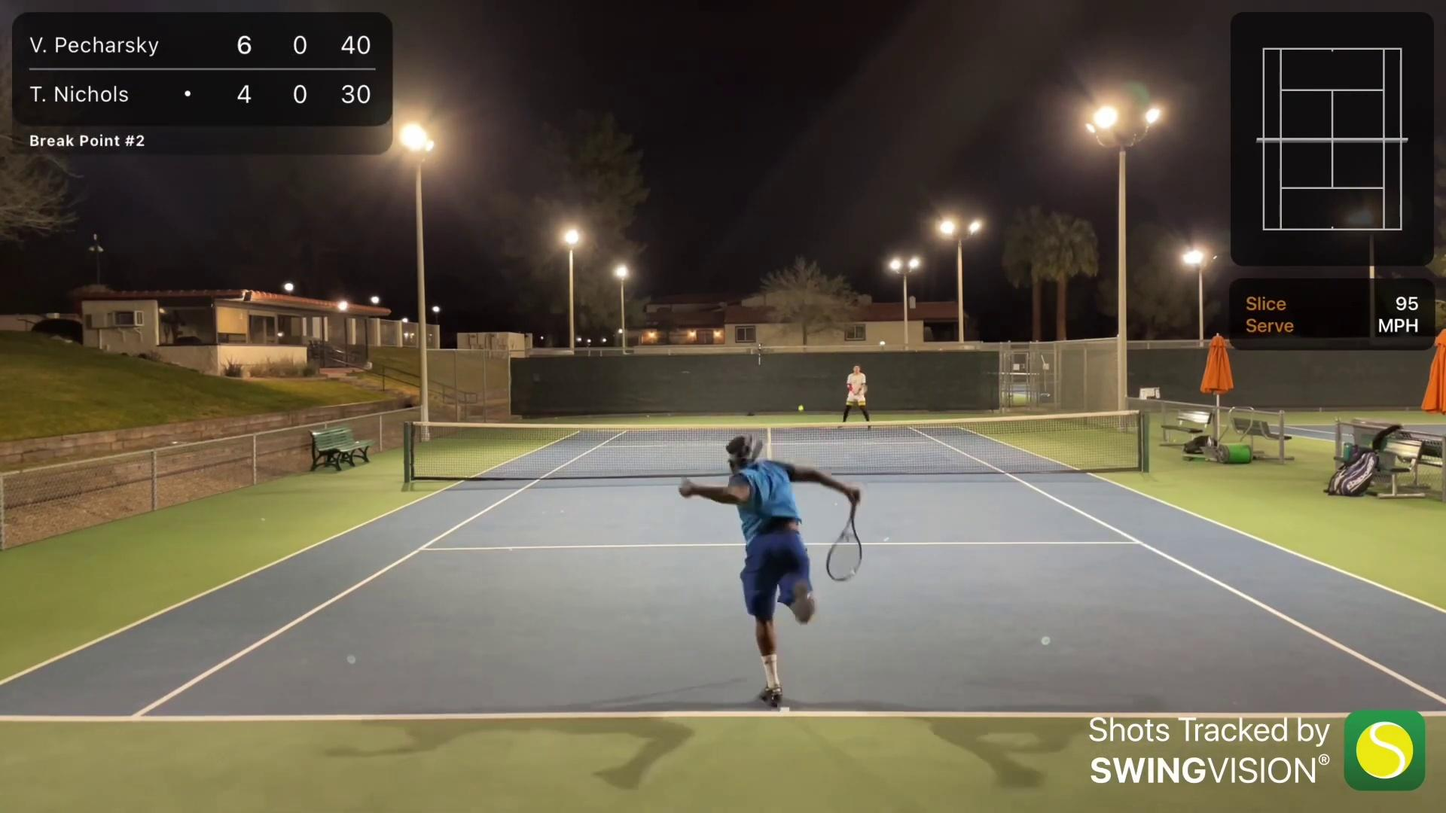ball: (793, 403, 808, 417)
